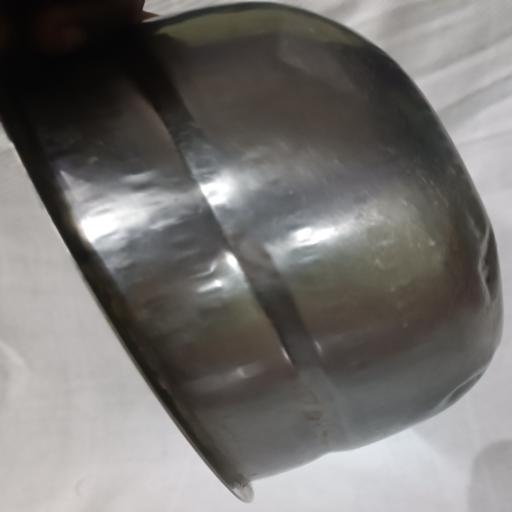vessel: (2, 3, 502, 501)
